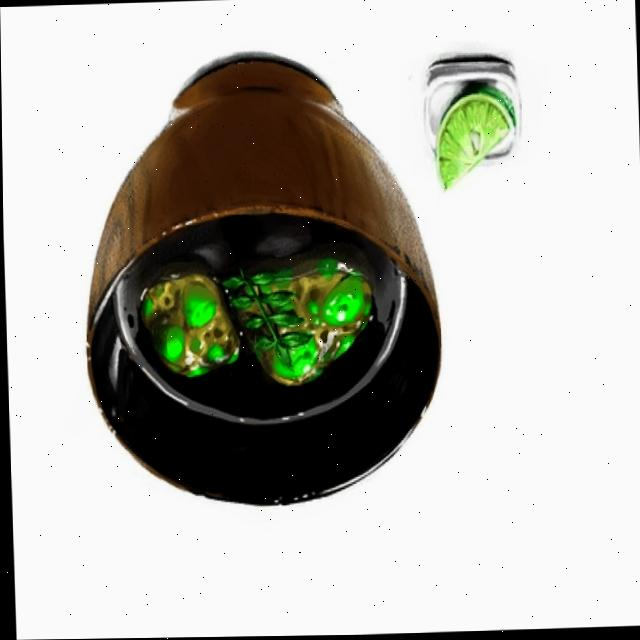汤锅炖物: (75, 169, 453, 528)
